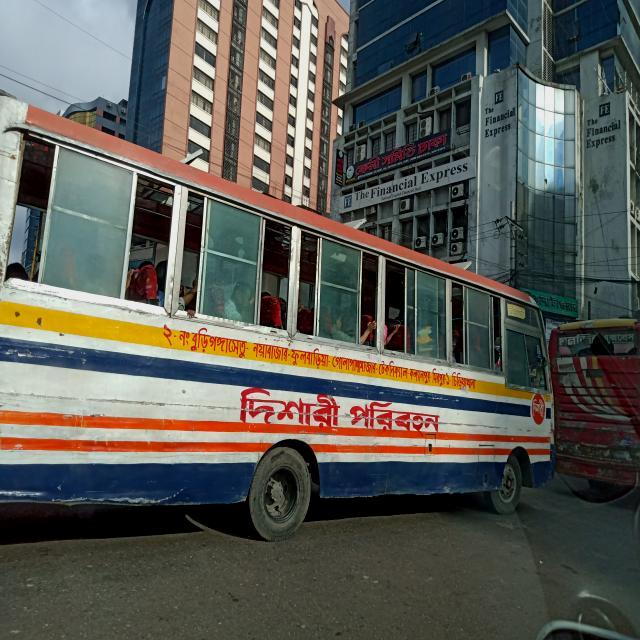bus: (2, 96, 557, 542)
